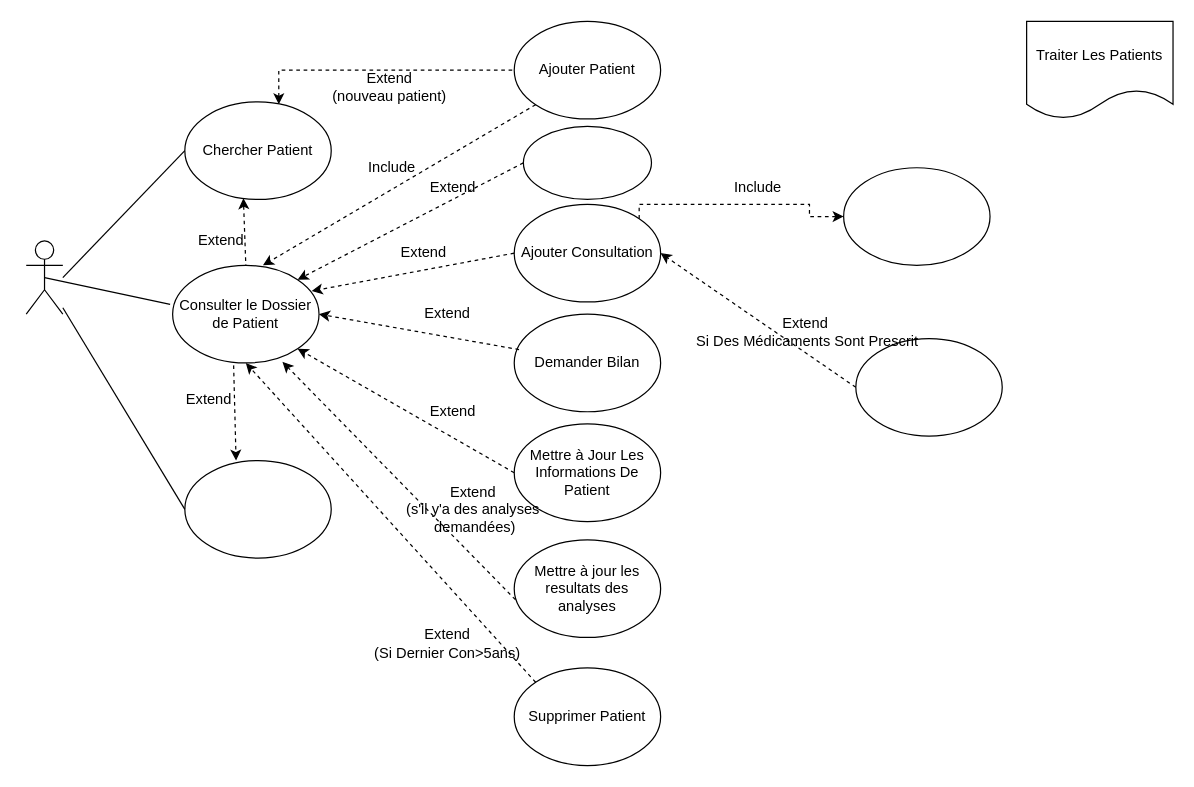
Some shapes in this 1194 by 787 pixel diagram are drawn without their labels. The shapes that lost their labels are listed below. From the top down, each one's centre as x and y in pixels, then its label:
At (x=586, y=162): "Consulter Consultation".
At (x=916, y=216): "Inscrit le Diagnostic".
At (x=44, y=277): "Medcin".
At (x=928, y=386): "Imprimer l'Ordannance".
At (x=257, y=508): "Consulter Agenda".
